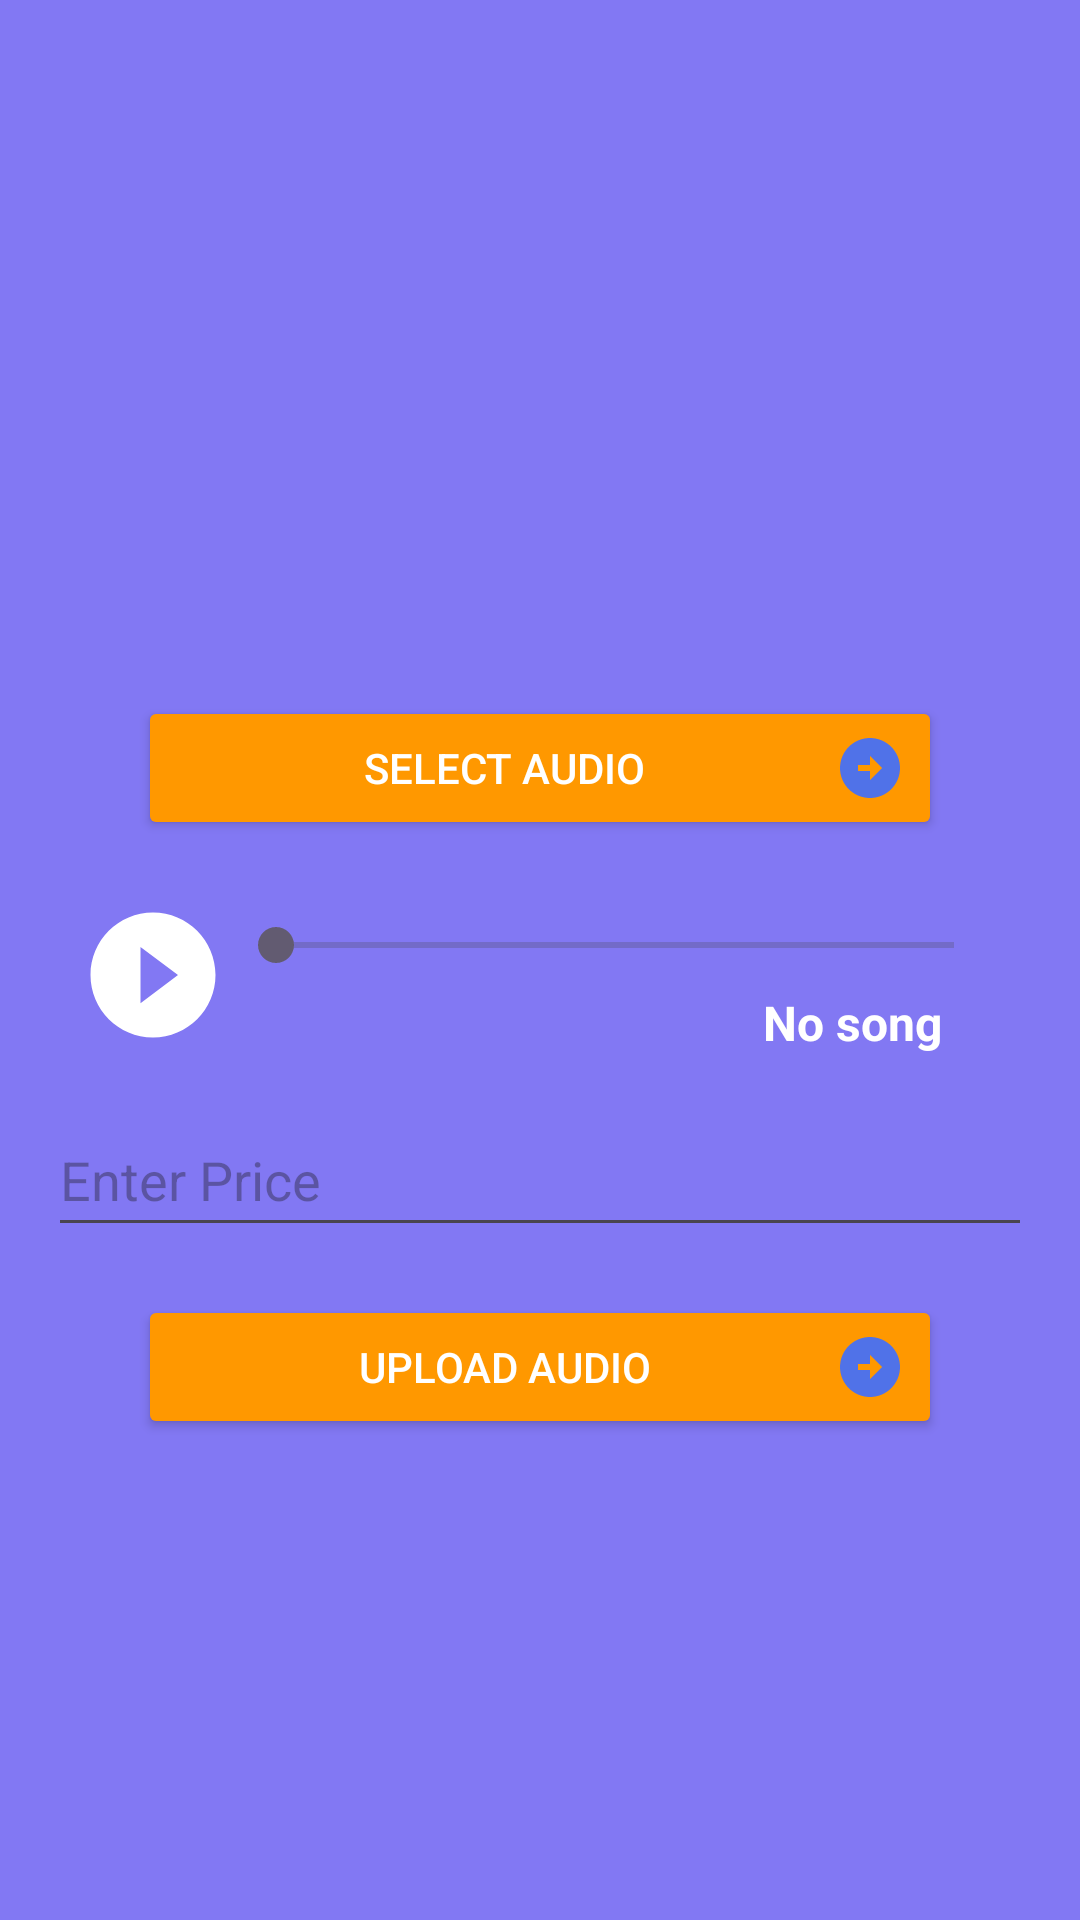

Point at icon controls on the screen. Image size 1080px x 1920px, points as (x=x, y=y).
play circle: (x=153, y=975)
